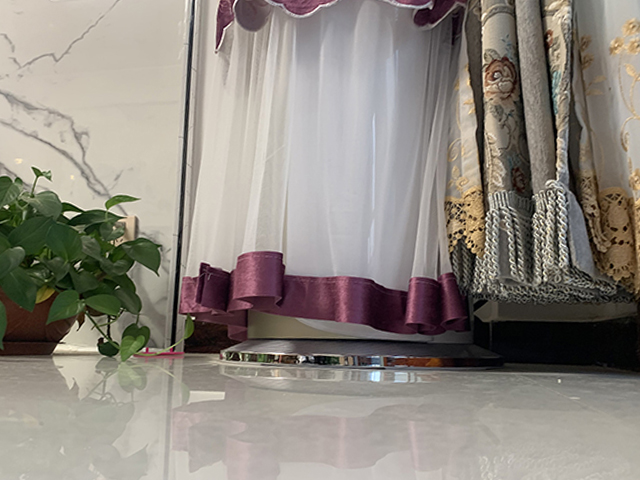curtain: (177, 1, 458, 336), (444, 1, 640, 308)
